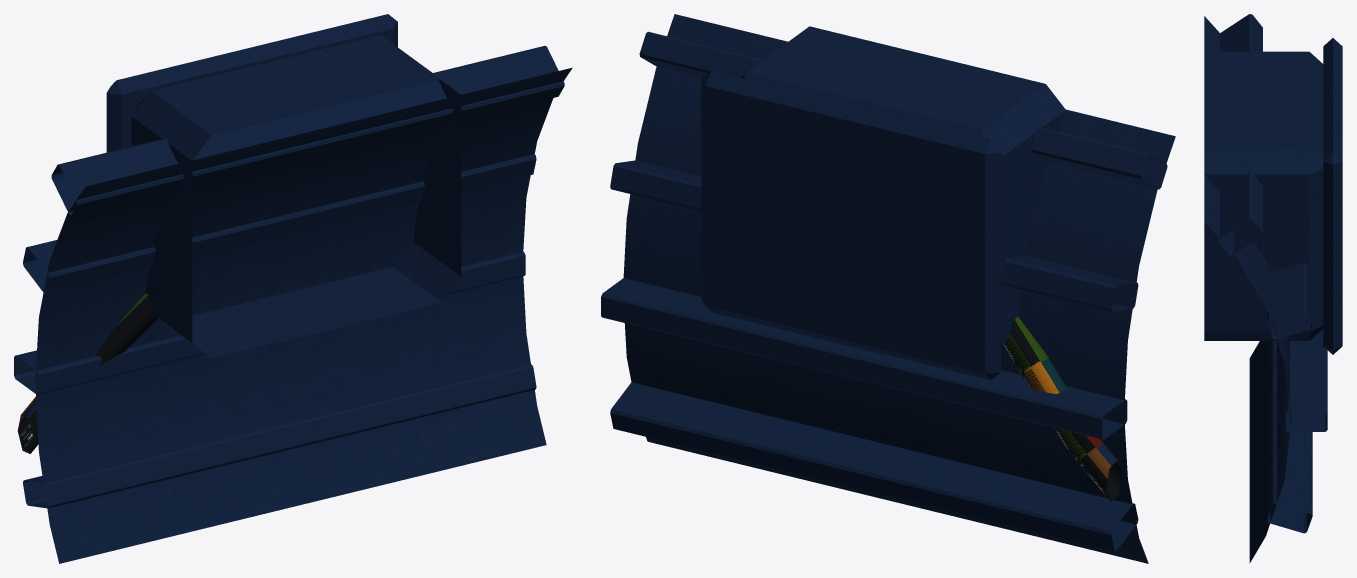
The model's file is cell_22.obj.
3 views of the same model, side by side, from view 1: azimuth 30°, elevation 25°; view 2: azimuth 150°, elevation 25°; view 3: azimuth 270°, elevation 25° (orthographic). The views are drawn at different scales.
Parts seen in each view (by area): view 1: cell_22; view 2: cell_22; view 3: cell_22.
Boxes of the visible parts, x1,y1,x2,y2 form: cell_22: [14, 14, 572, 563]; cell_22: [601, 14, 1175, 563]; cell_22: [1204, 14, 1342, 563].
Bounding box in the file's own units: 1 × 0.8285 × 0.2848.
